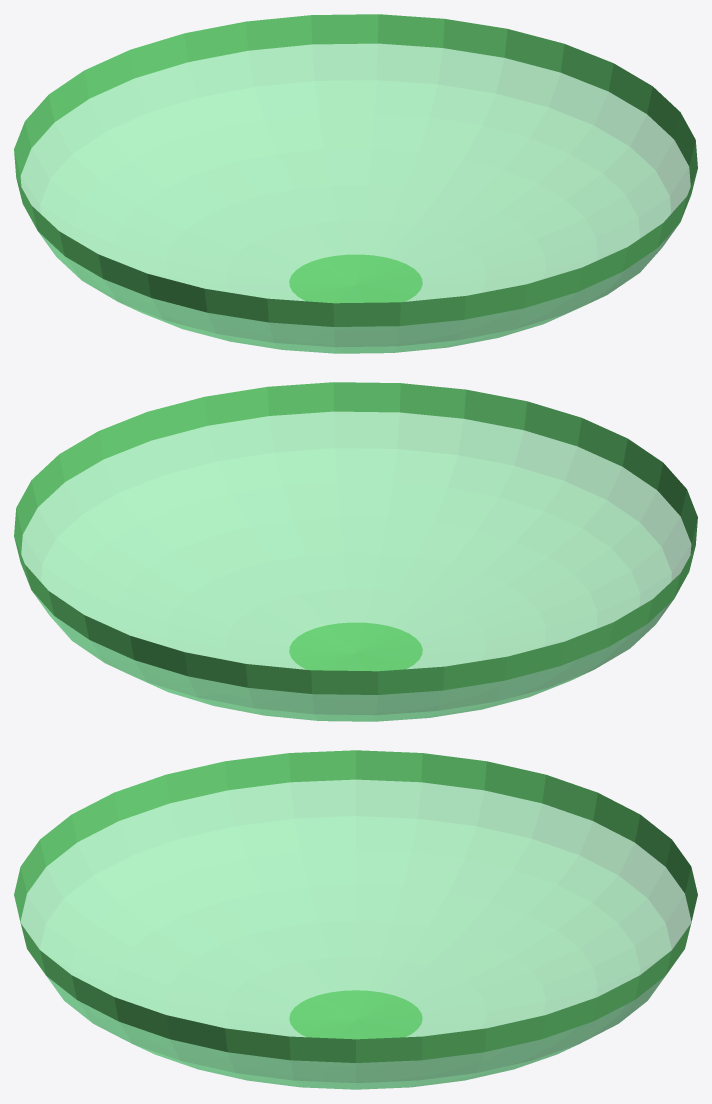
The model's file is roofLight.fbx.
The picture shows the model from 3 angles, top to bottom: view 1: azimuth 30°, elevation 25°; view 2: azimuth 150°, elevation 25°; view 3: azimuth 270°, elevation 25°; orthographic projection.
Visible parts, largest first — view 1: Light; view 2: Light; view 3: Light.
Part boxes in pixels (<box>): Light: <box>14,14,697,353</box>; Light: <box>14,382,697,721</box>; Light: <box>14,750,697,1089</box>.
Size of the model in its own units: 200 by 40.62 by 200.
